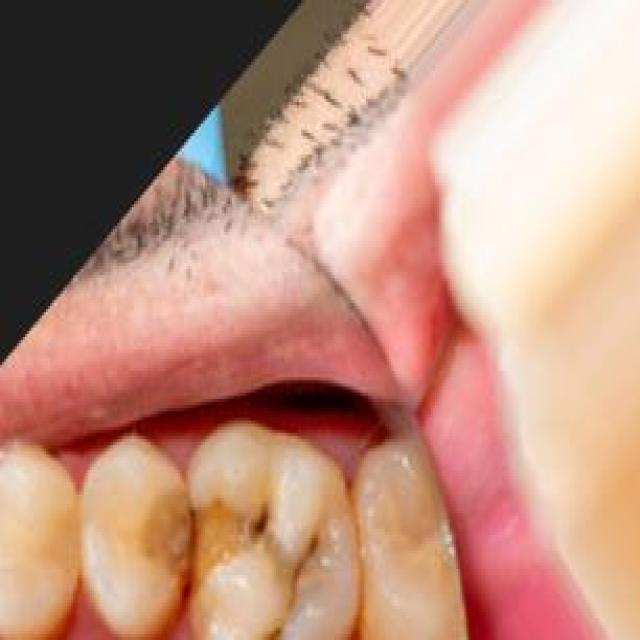caries: (132, 472, 244, 610), (276, 523, 338, 606), (249, 486, 290, 568)
